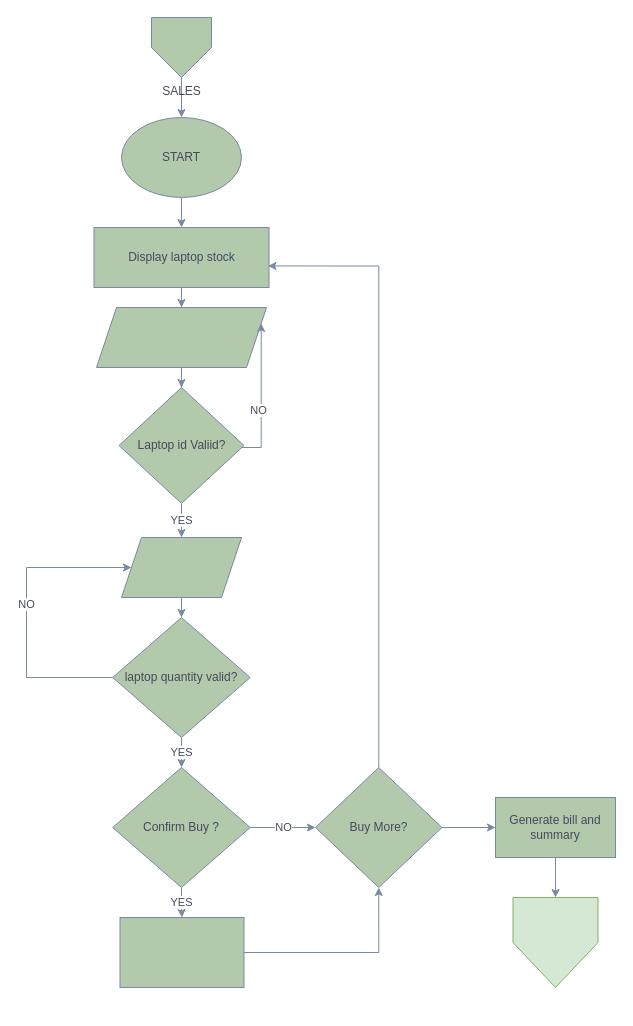
Some shapes in this 633 by 1026 pixel diagram are drawn without their labels. Here are the shapes that lost their labels. From the top down, the centre of each, then its label:
At (181,337): "input laptop id".
At (181,567): "Input quantity".
At (181,952): "Decrease stock append selected laptops to list".
At (555,942): "WELCOME".
